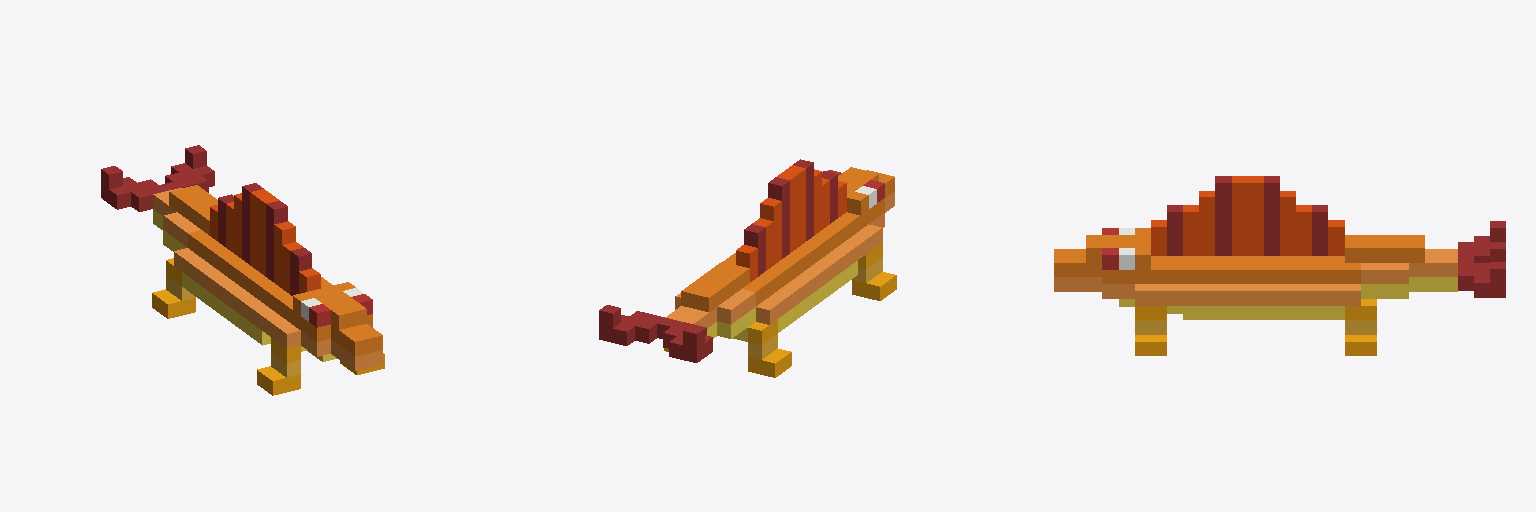
The picture shows the model from 3 angles: view 1: azimuth 30°, elevation 25°; view 2: azimuth 150°, elevation 25°; view 3: azimuth 270°, elevation 25°; orthographic projection.
Parts seen in each view (by area): view 1: object 1; view 2: object 1; view 3: object 1.
Boxes of the visible parts, box(x1,y1,x2,y2) form: object 1: box(101, 145, 384, 395); object 1: box(599, 159, 896, 377); object 1: box(1054, 176, 1505, 355).
Size of the model in its own units: 0.8 by 1 by 2.8.
Materials: 1 (1 with a texture image).